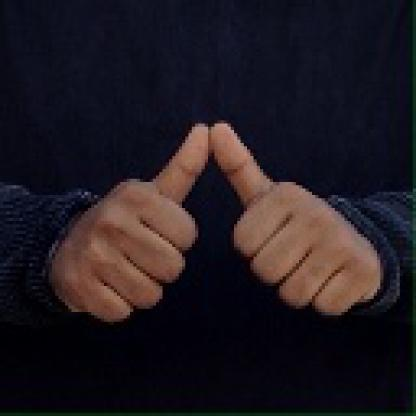A: (58, 118, 372, 335)
